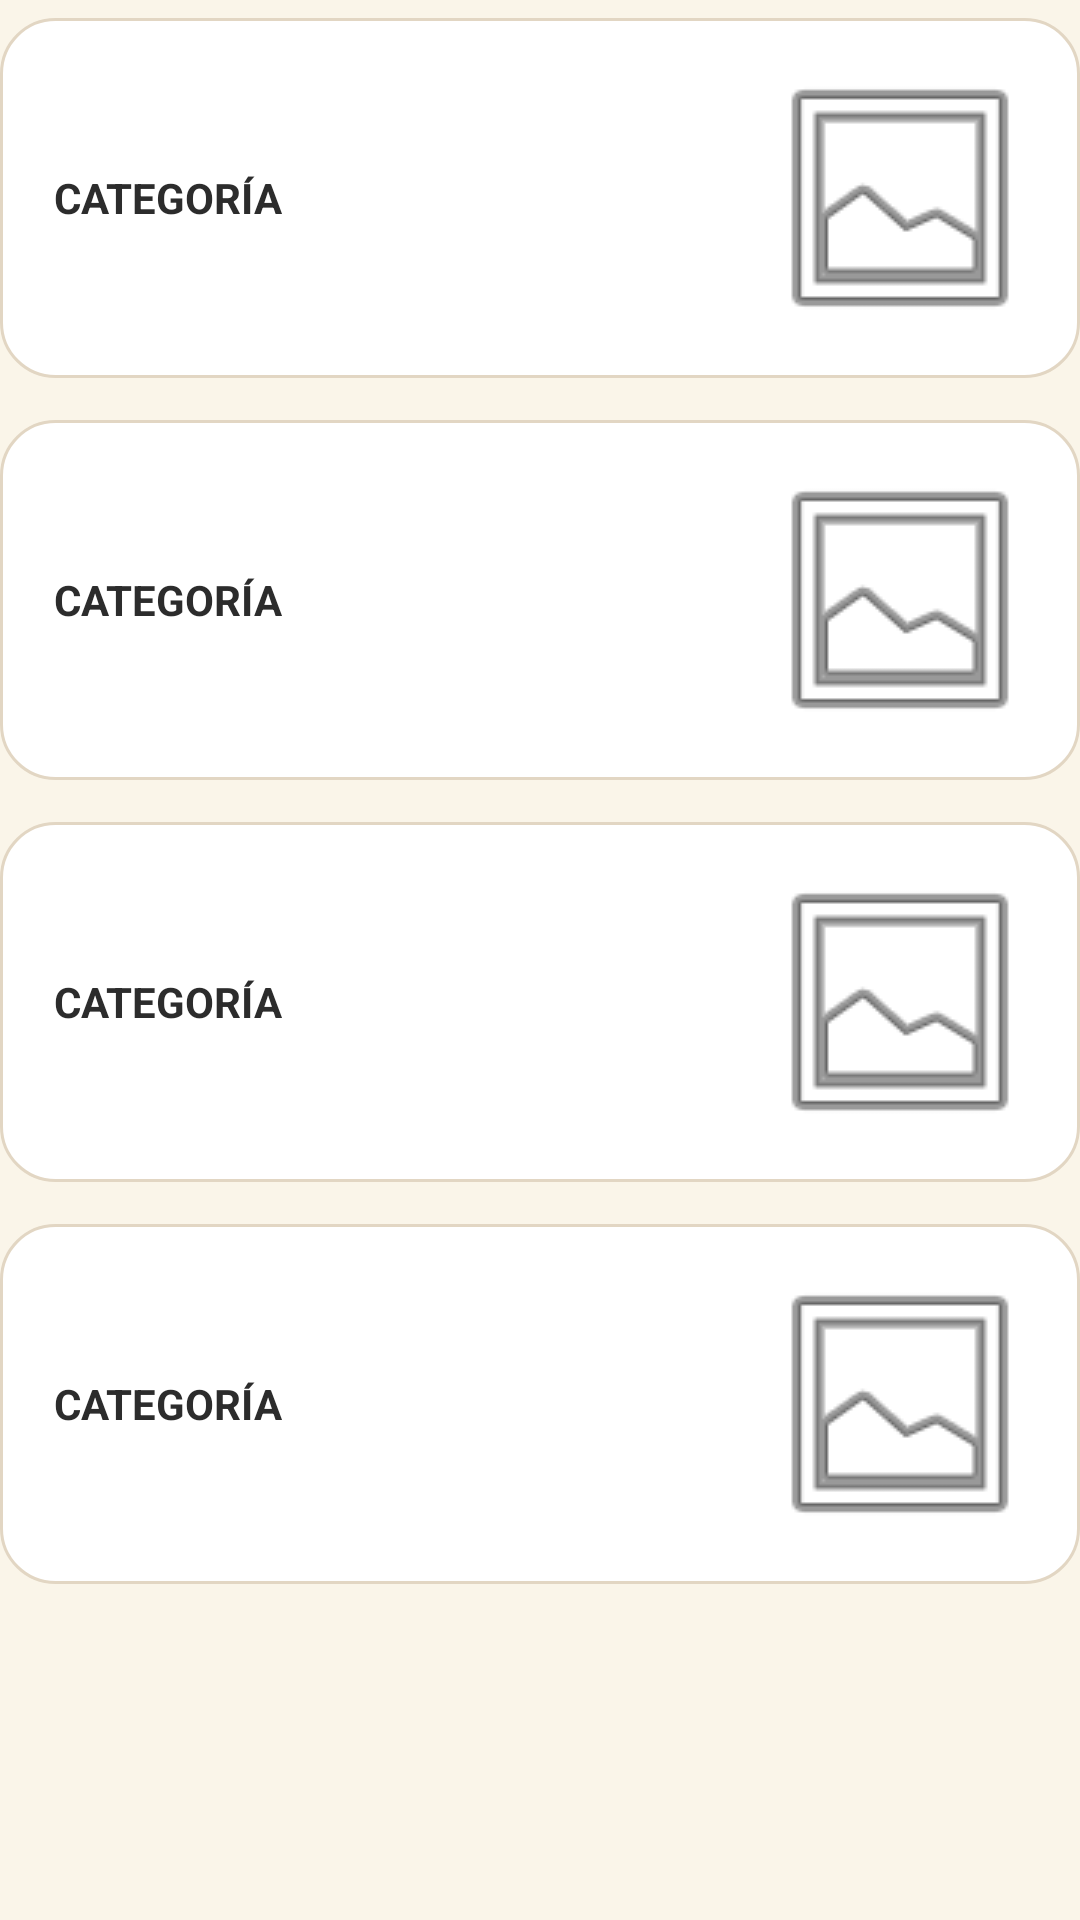

Locate icon controls on the screen. Image size 1080w x 1920h, boxes as (x1, y1, x2, y2).
gallery: (791, 89, 1009, 307), (791, 491, 1009, 709), (791, 893, 1009, 1111), (791, 1295, 1009, 1513)
